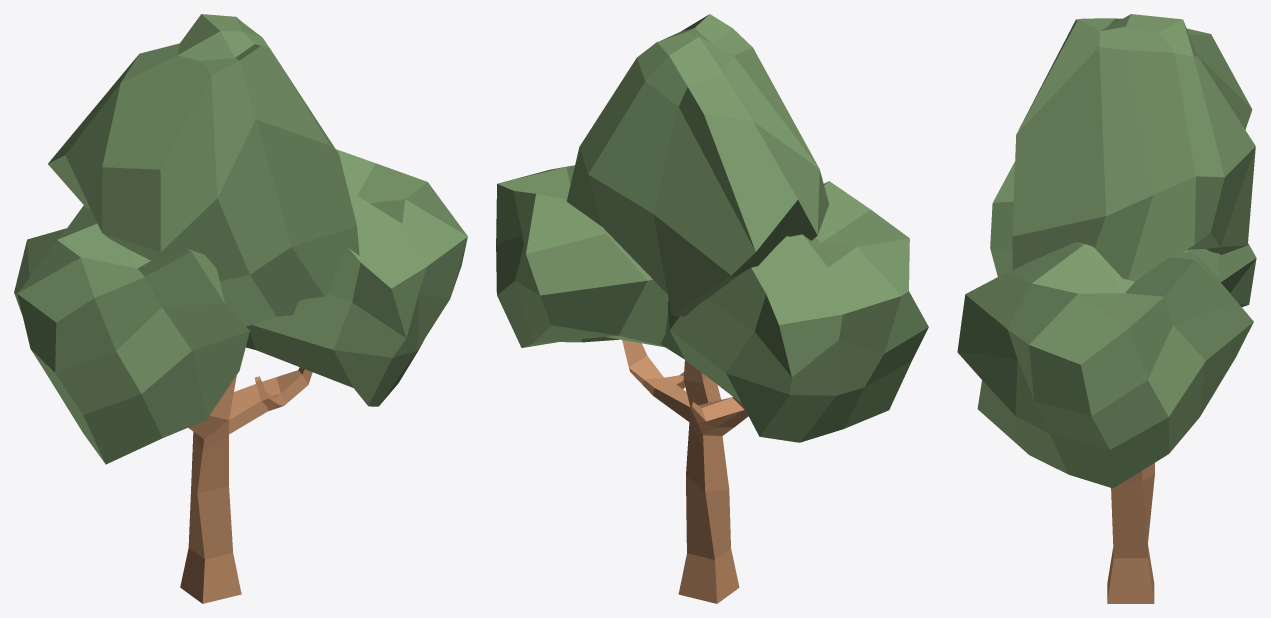
File: ArbolT1.fbx
3 renders of one model, left to right at view 1: azimuth 30°, elevation 25°; view 2: azimuth 150°, elevation 25°; view 3: azimuth 270°, elevation 25°, orthographic. The views are drawn at different scales.
Parts seen in each view (by area): view 1: Cube.002, Cube, Cube.001, Arbol01; view 2: Cube.002, Cube, Cube.001, Arbol01; view 3: Cube.002, Cube.001, Arbol01, Cube.
Part boxes in pixels (x1,y1,x2,y2): Cube.002: (48,14,359,326); Cube: (14,205,249,464); Cube.001: (245,149,467,406); Arbol01: (180,367,312,603); Cube.002: (566,14,828,316); Cube: (661,181,928,442); Cube.001: (496,165,668,347); Arbol01: (622,340,748,603); Cube.002: (1012,14,1255,281); Cube.001: (957,242,1253,488); Arbol01: (1107,463,1154,603); Cube: (990,162,1256,306).
Bounding box in the file's own units: 1483 × 1855 × 859.
